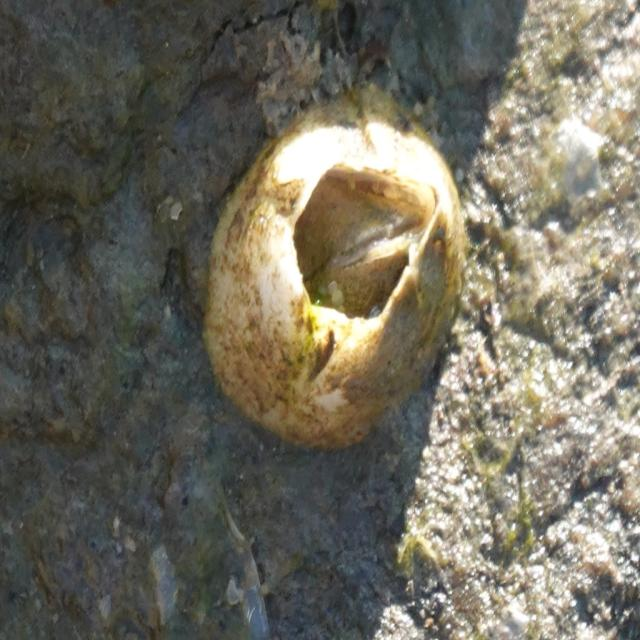barnacles: (198, 82, 469, 460)
